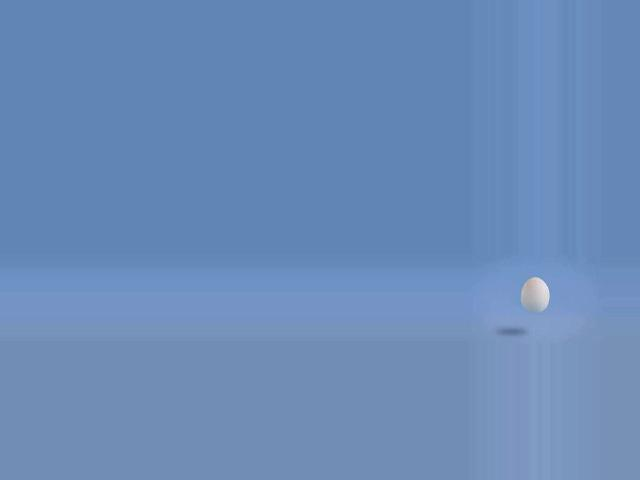egg: (520, 277, 550, 313)
